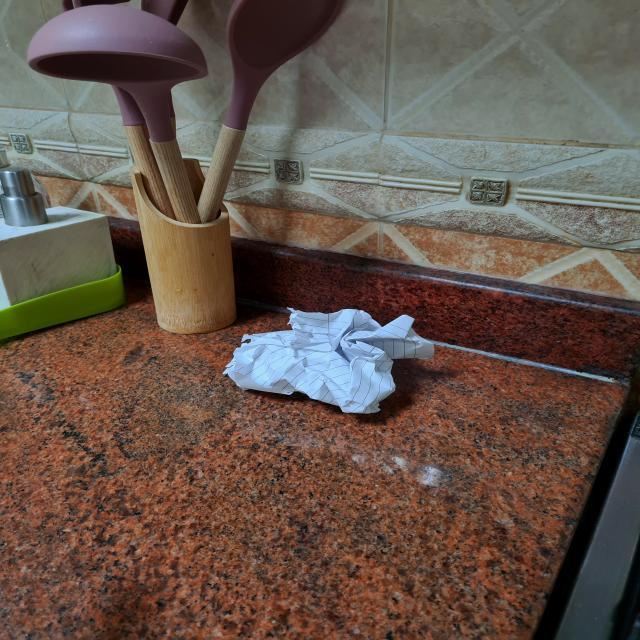Paper: (222, 300, 438, 414)
